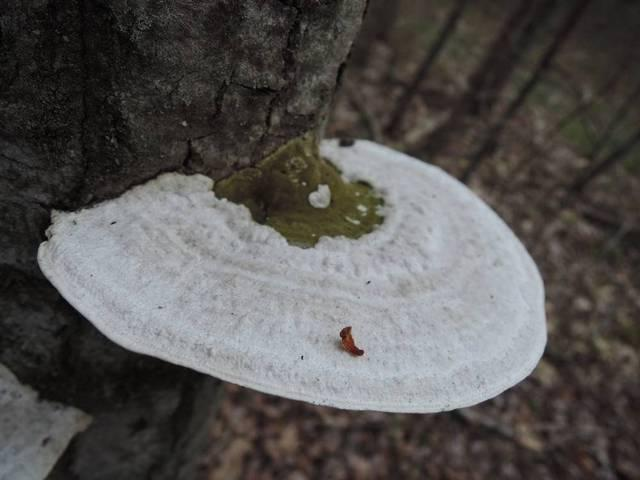poisonous_mushroom: (35, 131, 549, 415)
